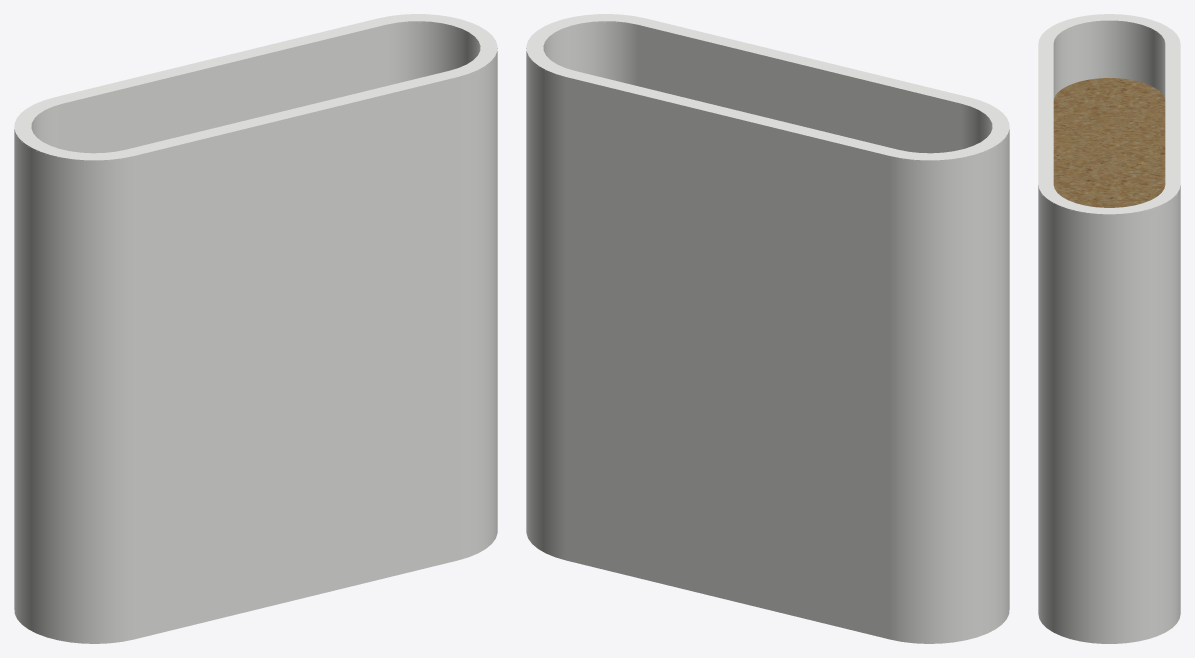
3 views of the same model, side by side, from view 1: azimuth 30°, elevation 25°; view 2: azimuth 150°, elevation 25°; view 3: azimuth 270°, elevation 25° (orthographic). The views are drawn at different scales.
Visible parts, largest first — view 1: ПС 2 — наружная обшивка — часть 1, ПС 2 — наружная обшивка — часть 2, ПС 2 — внутренняя обшивка — часть 2, ПС 2 — внутренняя обшивка — часть 1, ПС 2 — верхнее кольцо; view 2: ПС 2 — наружная обшивка — часть 1, ПС 2 — наружная обшивка — часть 2, ПС 2 — внутренняя обшивка — часть 2, ПС 2 — внутренняя обшивка — часть 1, ПС 2 — верхнее кольцо; view 3: ПС 2 — наружная обшивка — часть 2, ДСП 16 — дно ниши, ПС 2 — верхнее кольцо, ПС 2 — внутренняя обшивка — часть 1.
Boxes of the visible parts, <box> form: ПС 2 — наружная обшивка — часть 1: <box>14,117,295,643</box>; ПС 2 — наружная обшивка — часть 2: <box>296,49,497,599</box>; ПС 2 — внутренняя обшивка — часть 2: <box>224,22,480,125</box>; ПС 2 — внутренняя обшивка — часть 1: <box>31,65,224,153</box>; ПС 2 — верхнее кольцо: <box>14,14,497,161</box>; ПС 2 — наружная обшивка — часть 1: <box>728,117,1009,643</box>; ПС 2 — наружная обшивка — часть 2: <box>526,49,727,599</box>; ПС 2 — внутренняя обшивка — часть 2: <box>543,22,799,125</box>; ПС 2 — внутренняя обшивка — часть 1: <box>799,65,992,153</box>; ПС 2 — верхнее кольцо: <box>526,14,1009,161</box>; ПС 2 — наружная обшивка — часть 2: <box>1038,186,1180,643</box>; ДСП 16 — дно ниши: <box>1053,78,1165,207</box>; ПС 2 — верхнее кольцо: <box>1038,14,1180,215</box>; ПС 2 — внутренняя обшивка — часть 1: <box>1053,21,1165,99</box>.
Bounding box in the file's own units: 1 × 1 × 0.3.
Materials: 2 (1 with a texture image).
